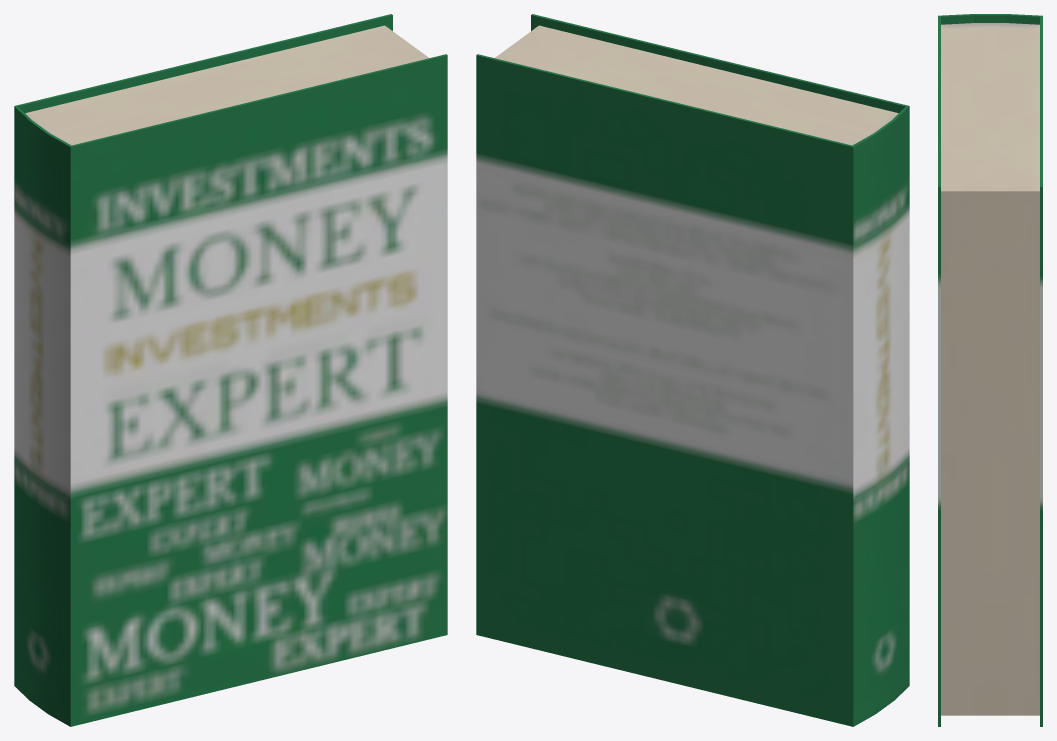
File: book_g.obj
3 views of the same model, side by side, from view 1: azimuth 30°, elevation 25°; view 2: azimuth 150°, elevation 25°; view 3: azimuth 270°, elevation 25° (orthographic). The views are drawn at different scales.
Visible parts, largest first — view 1: SM_MERGED_SM_Book_02_49; view 2: SM_MERGED_SM_Book_02_49; view 3: SM_MERGED_SM_Book_02_49.
Part boxes in pixels (<box>): SM_MERGED_SM_Book_02_49: <box>14,14,447,726</box>; SM_MERGED_SM_Book_02_49: <box>476,14,909,726</box>; SM_MERGED_SM_Book_02_49: <box>938,14,1042,726</box>.
Size of the model in its own units: 0.1011 by 0.147 by 0.0259.
Materials: 1 (1 with a texture image).
